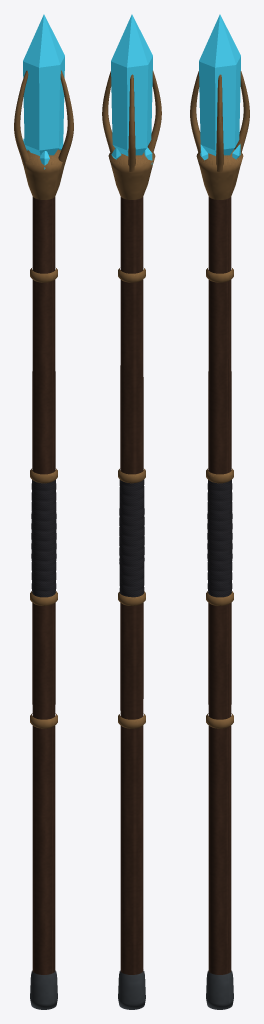
The model's file is crystal-staff.glb.
3 views of the same model, side by side, from view 1: azimuth 90°, elevation 25°; view 2: azimuth 150°, elevation 25°; view 3: azimuth 270°, elevation 25° (orthographic).
Visible parts, largest first — view 1: wood / oiled hardwood, crystal / faceted crystal, bronze / cast bronze with patina, cord / waxed silk cord wrap, darksteel / oil-blackened fittings; view 2: wood / oiled hardwood, crystal / faceted crystal, bronze / cast bronze with patina, cord / waxed silk cord wrap, darksteel / oil-blackened fittings; view 3: wood / oiled hardwood, crystal / faceted crystal, bronze / cast bronze with patina, cord / waxed silk cord wrap, darksteel / oil-blackened fittings.
Boxes of the visible parts, x1,y1,x2,y2 form: wood / oiled hardwood: (32,197,55,974); crystal / faceted crystal: (23,14,64,169); bronze / cast bronze with patina: (14,70,73,728); cord / waxed silk cord wrap: (31,480,56,597); darksteel / oil-blackened fittings: (30,970,57,1009); wood / oiled hardwood: (120,197,143,974); crystal / faceted crystal: (111,14,152,164); bronze / cast bronze with patina: (102,71,161,728); cord / waxed silk cord wrap: (119,479,144,597); darksteel / oil-blackened fittings: (118,970,145,1009); wood / oiled hardwood: (208,197,231,974); crystal / faceted crystal: (199,14,240,160); bronze / cast bronze with patina: (190,71,249,728); cord / waxed silk cord wrap: (207,480,232,597); darksteel / oil-blackened fittings: (206,970,233,1009).
Size of the model in its own units: 0.0934 by 1.78 by 0.0974.
5 materials, 4 textured.
